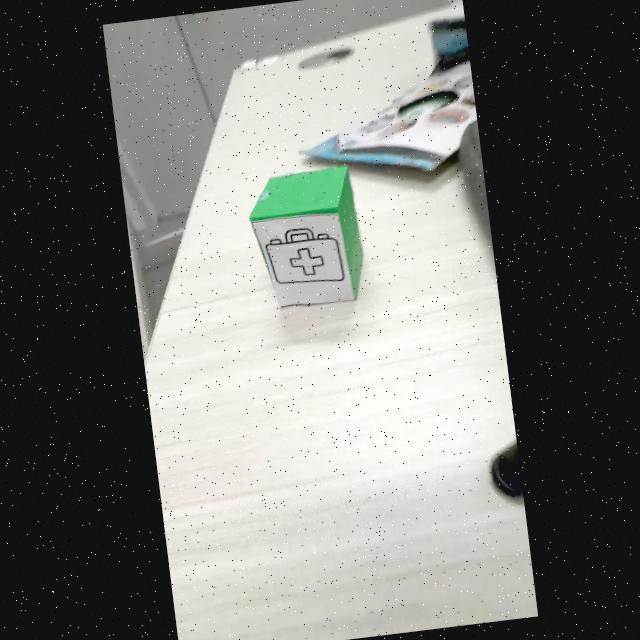Medkit: (265, 228, 344, 284)
